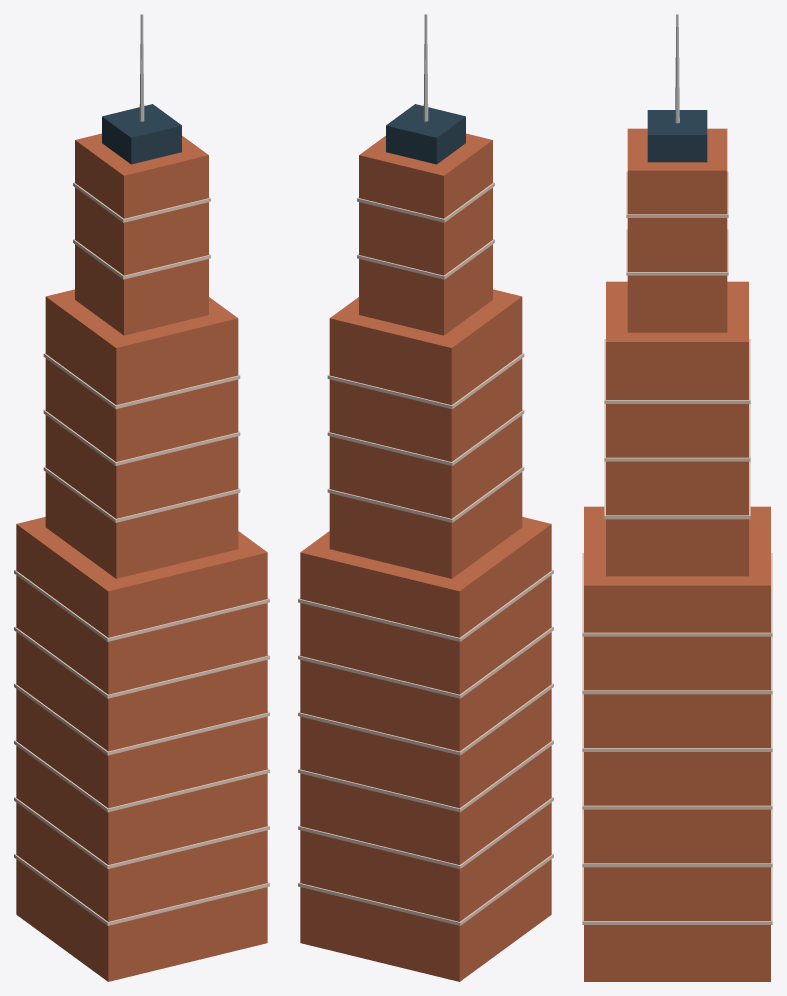
File: maitama-capital.glb
The picture shows the model from 3 angles, left to right: view 1: azimuth 30°, elevation 25°; view 2: azimuth 150°, elevation 25°; view 3: azimuth 270°, elevation 25°; orthographic projection.
Parts seen in each view (by area): view 1: maitama-capital_Building; view 2: maitama-capital_Building; view 3: maitama-capital_Building.
Boxes of the visible parts, bbox=[...] form: maitama-capital_Building: bbox=[14, 14, 269, 981]; maitama-capital_Building: bbox=[298, 14, 553, 981]; maitama-capital_Building: bbox=[582, 14, 772, 981].
Bounding box in the file's own units: 9.56 × 51.5 × 9.56.
